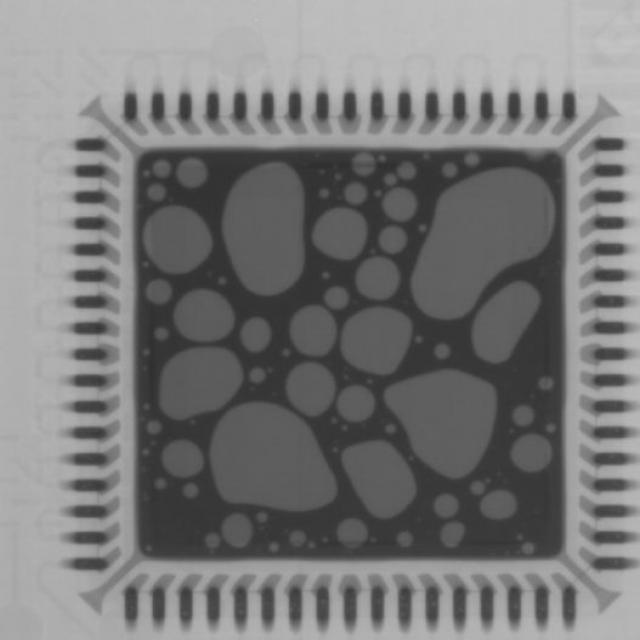component: (136, 150, 563, 559)
void: (412, 167, 556, 320), (210, 403, 338, 513), (385, 371, 498, 480), (222, 161, 305, 296), (159, 348, 243, 421), (342, 441, 417, 520), (474, 281, 542, 364), (341, 307, 414, 376), (143, 206, 213, 275), (174, 289, 233, 342), (312, 208, 368, 261), (285, 362, 336, 418), (290, 305, 338, 357), (357, 257, 401, 300), (511, 434, 554, 474), (162, 440, 204, 479), (336, 386, 376, 423), (480, 490, 519, 522), (383, 187, 418, 222), (240, 317, 272, 354), (221, 515, 254, 549), (338, 519, 369, 550), (176, 158, 208, 188), (379, 225, 408, 254), (146, 280, 172, 305), (441, 523, 466, 549), (435, 494, 460, 520), (324, 287, 350, 310), (352, 152, 376, 176), (512, 405, 537, 428), (345, 182, 368, 206), (398, 161, 418, 180), (147, 184, 166, 202), (153, 159, 171, 177), (289, 531, 307, 549), (204, 533, 221, 551), (182, 483, 199, 500), (249, 368, 266, 385), (442, 161, 459, 178), (146, 420, 163, 436), (153, 326, 170, 342), (436, 344, 452, 359), (398, 533, 413, 549), (471, 482, 487, 497), (465, 152, 481, 167), (539, 377, 555, 391), (522, 542, 537, 556), (154, 479, 166, 491), (256, 512, 268, 524), (385, 424, 397, 435), (385, 174, 397, 185), (319, 187, 330, 198), (268, 544, 281, 553), (322, 271, 332, 281), (548, 424, 557, 434), (419, 224, 429, 233), (282, 348, 291, 357), (219, 276, 227, 285), (415, 336, 424, 344)
